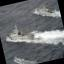fishing boat: (0, 20, 38, 50)
